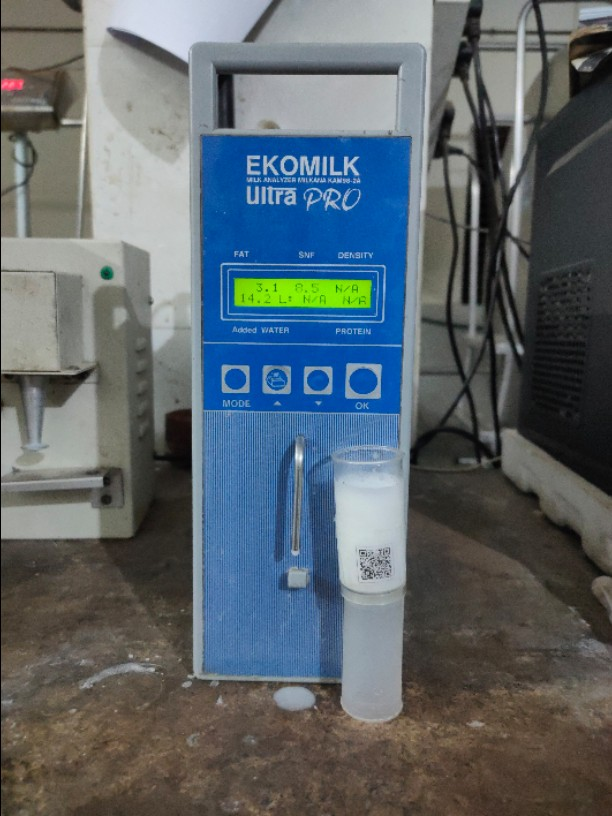lcd: (227, 273, 379, 316)
qr: (347, 543, 411, 587)
